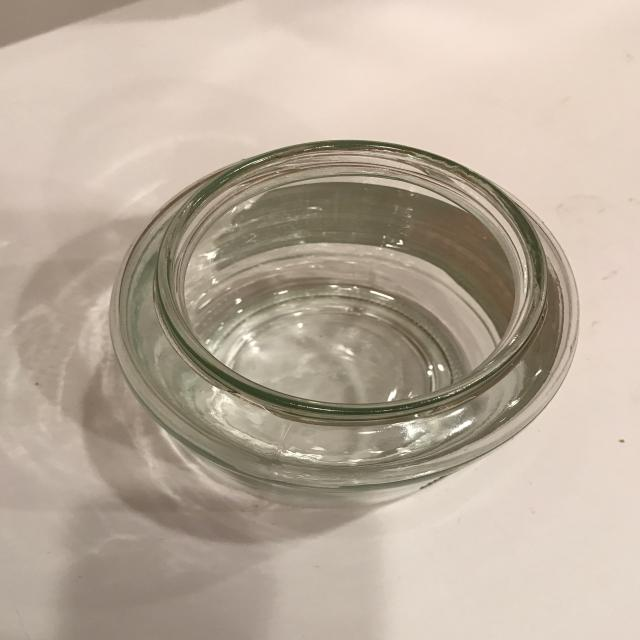glass: (108, 138, 580, 500)
